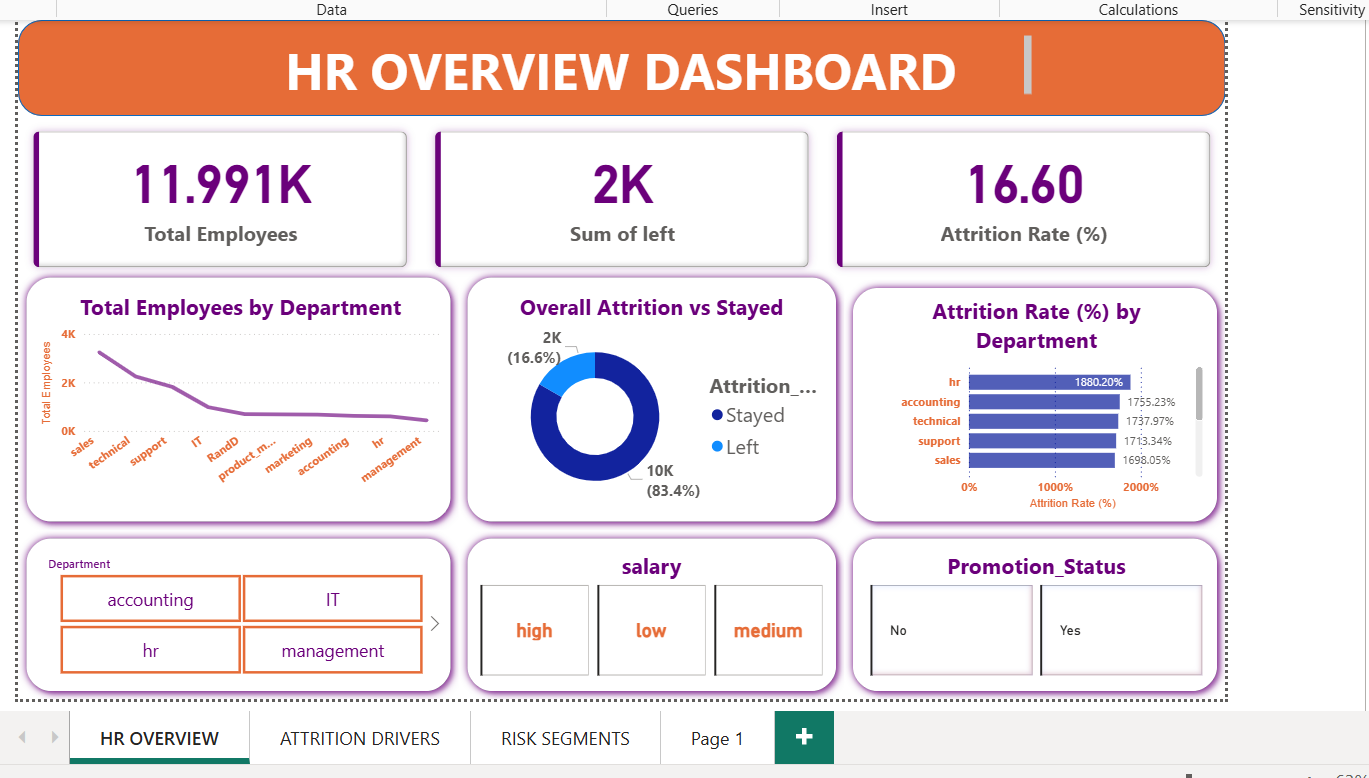

What the dashboard file says about the page in this screenshot:
{"tool":"powerbi","page":{"name":"HR OVERVIEW","canvas":[1280,720],"ordinal":0},"visuals":[{"type":"shape","box":[0,0,1280.4,101.8],"z":0},{"type":"textbox","box":[206.8,11.1,873.2,76.3],"z":1000},{"type":"cardVisual","fields":{"Data":["HR_cleaned.Total Employees","Sum(HR_cleaned.left)","HR_cleaned.Attrition Rate (%)"]},"box":[0,101.8,1280.4,176.6],"z":2000},{"type":"shape","box":[0,264,467.6,276.8],"z":3000},{"type":"shape","box":[467.6,264,408.8,276.8],"z":4000},{"type":"shape","box":[876.4,275.2,404,265.6],"z":5000},{"type":"donutChart","title":"Overall Attrition vs Stayed","fields":{"Y":["CountNonNull(HR_cleaned.left)"],"Category":["HR_cleaned.Attrition_Status"]},"box":[485.1,287.9,373.8,233.8],"z":6000},{"type":"lineChart","fields":{"Category":["HR_cleaned.Department"],"Y":["HR_cleaned.Total Employees"]},"box":[19.1,287.9,434.2,233.8],"z":7000},{"type":"clusteredBarChart","fields":{"Category":["HR_cleaned.Department"],"Y":["HR_cleaned.Attrition Rate (%)"]},"box":[898.7,292.7,362.7,230.6],"z":8000},{"type":"shape","box":[0,540.8,467.6,179.7],"z":9000},{"type":"slicer","fields":{"Values":["HR_cleaned.Department"]},"box":[19.1,563.1,434.2,136.8],"z":10000},{"type":"shape","box":[467.6,540.8,408.8,179.7],"z":11000},{"type":"shape","box":[876.4,540.8,404,179.7],"z":12000},{"type":"advancedSlicerVisual","fields":{"Values":["HR_cleaned.salary"]},"box":[485.1,563.1,373.8,136.8],"z":13000},{"type":"advancedSlicerVisual","fields":{"Values":["HR_cleaned.Promotion_Status"]},"box":[898.7,563.1,362.7,136.8],"z":14000}]}

Visuals, with their boxes on the page's 1280x720 design canvas (x1, y1, x2, y2). These are canvas units, not pixel positions in the 1369x778 screenshot, which may show the page scaled, cropped or inside an application window:
shape: (0, 0, 1280, 102)
textbox: (207, 11, 1080, 87)
cardVisual - HR_cleaned.Total Employees x Sum(HR_cleaned.left): (0, 102, 1280, 278)
shape: (0, 264, 468, 541)
shape: (468, 264, 876, 541)
shape: (876, 275, 1280, 541)
"Overall Attrition vs Stayed" donutChart: (485, 288, 859, 522)
lineChart - HR_cleaned.Department x HR_cleaned.Total Employees: (19, 288, 453, 522)
clusteredBarChart - HR_cleaned.Department x HR_cleaned.Attrition Rate (%): (899, 293, 1261, 523)
shape: (0, 541, 468, 720)
slicer - HR_cleaned.Department: (19, 563, 453, 700)
shape: (468, 541, 876, 720)
shape: (876, 541, 1280, 720)
advancedSlicerVisual - HR_cleaned.salary: (485, 563, 859, 700)
advancedSlicerVisual - HR_cleaned.Promotion_Status: (899, 563, 1261, 700)
